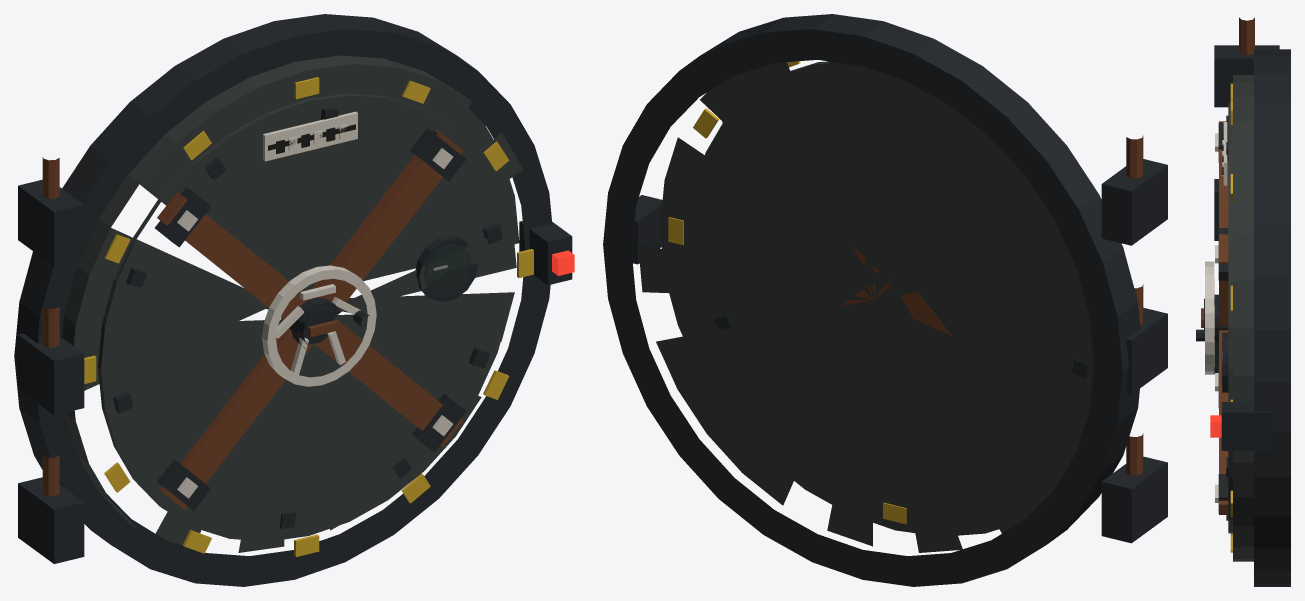
Rendered from airlock_door.glb.
3 views of the same model, side by side, from view 1: azimuth 30°, elevation 25°; view 2: azimuth 150°, elevation 25°; view 3: azimuth 270°, elevation 25° (orthographic). The views are drawn at different scales.
Parts seen in each view (by area): view 1: airlock_door; view 2: airlock_door; view 3: airlock_door.
Part boxes in pixels (x1,y1,x2,y2): airlock_door: (14,14,574,586); airlock_door: (603,14,1167,586); airlock_door: (1196,17,1290,586).
Bounding box in the file's own units: 1.91 × 1.9 × 0.335.
